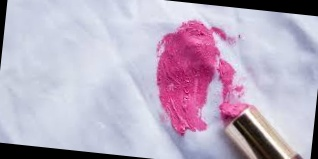lipstick: (142, 18, 235, 141)
